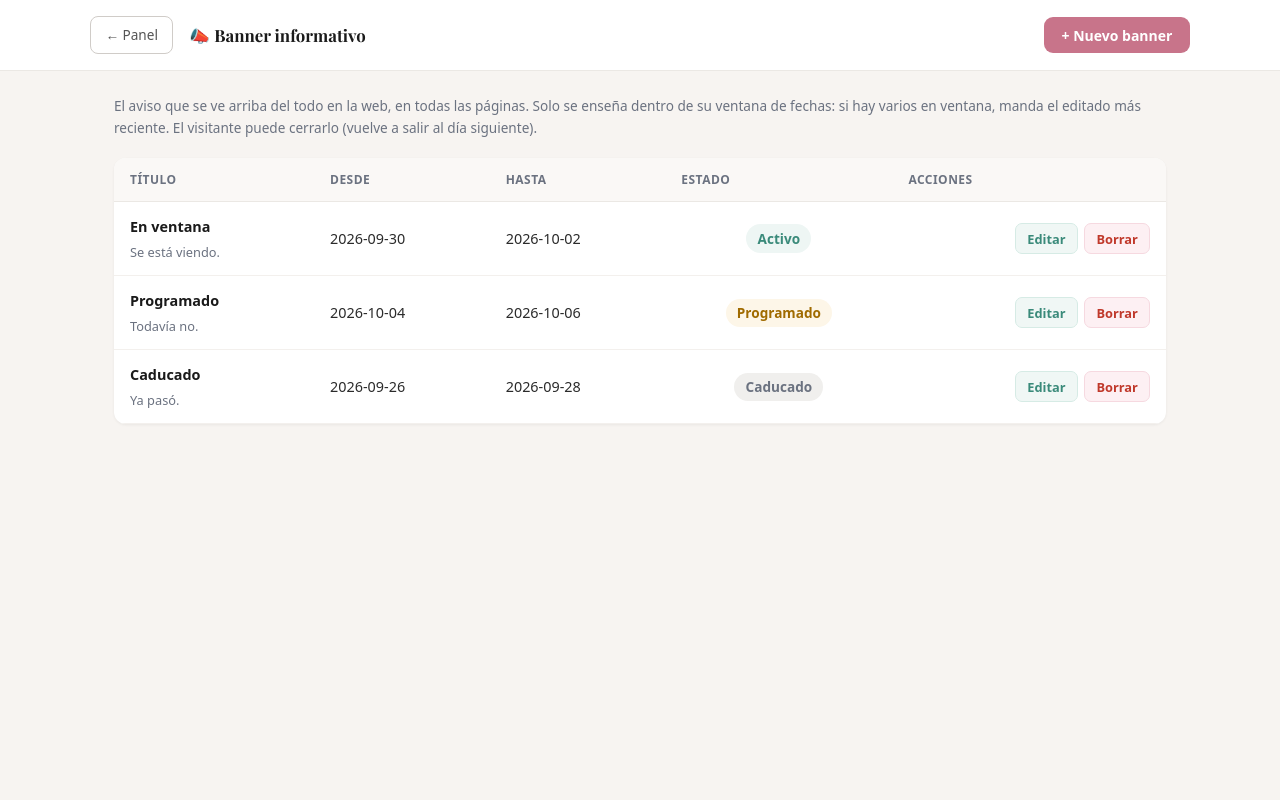
AdminBannersPage › enseña el error del backend en el formulario
Click the button with class "btn-add".
click(1117, 35)  # box [1044,17,1190,53]
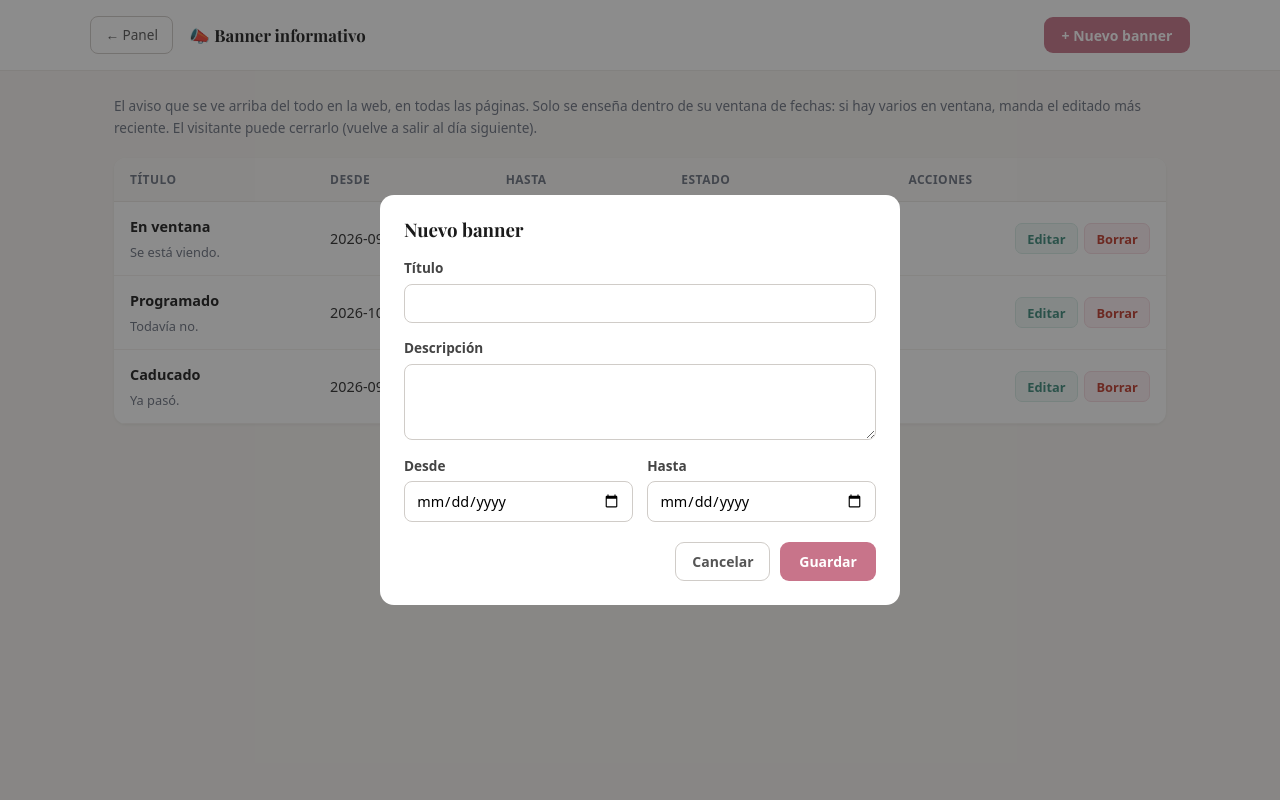
Type "Título" into the field labelled "Título".
click(640, 303); type("Título")  # box [404,284,876,323]
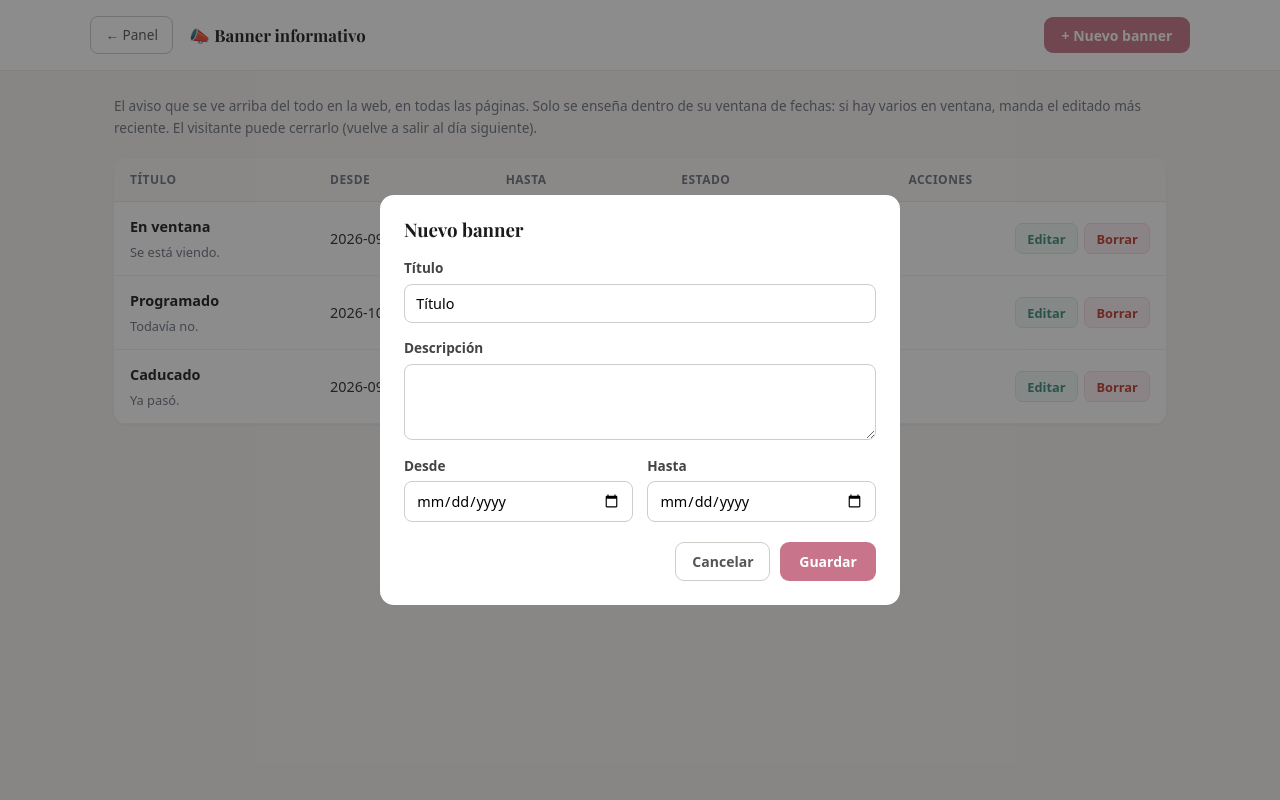
Type "Descripción" into the text box labelled "Descripción".
click(640, 402); type("Descripción")  # box [404,364,876,440]
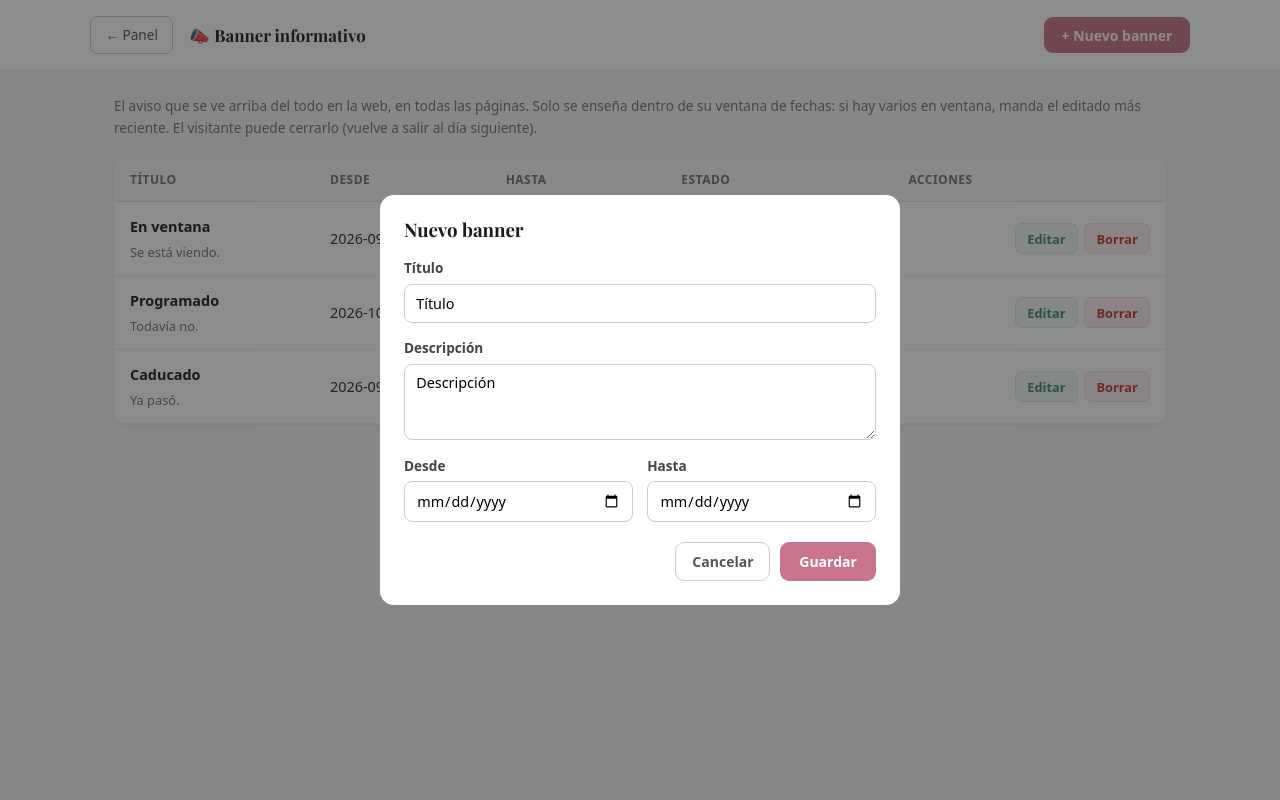
Type "2026-10-31" into the date field labelled "Desde".
click(518, 501); type("2026-10-31")  # box [404,481,633,522]
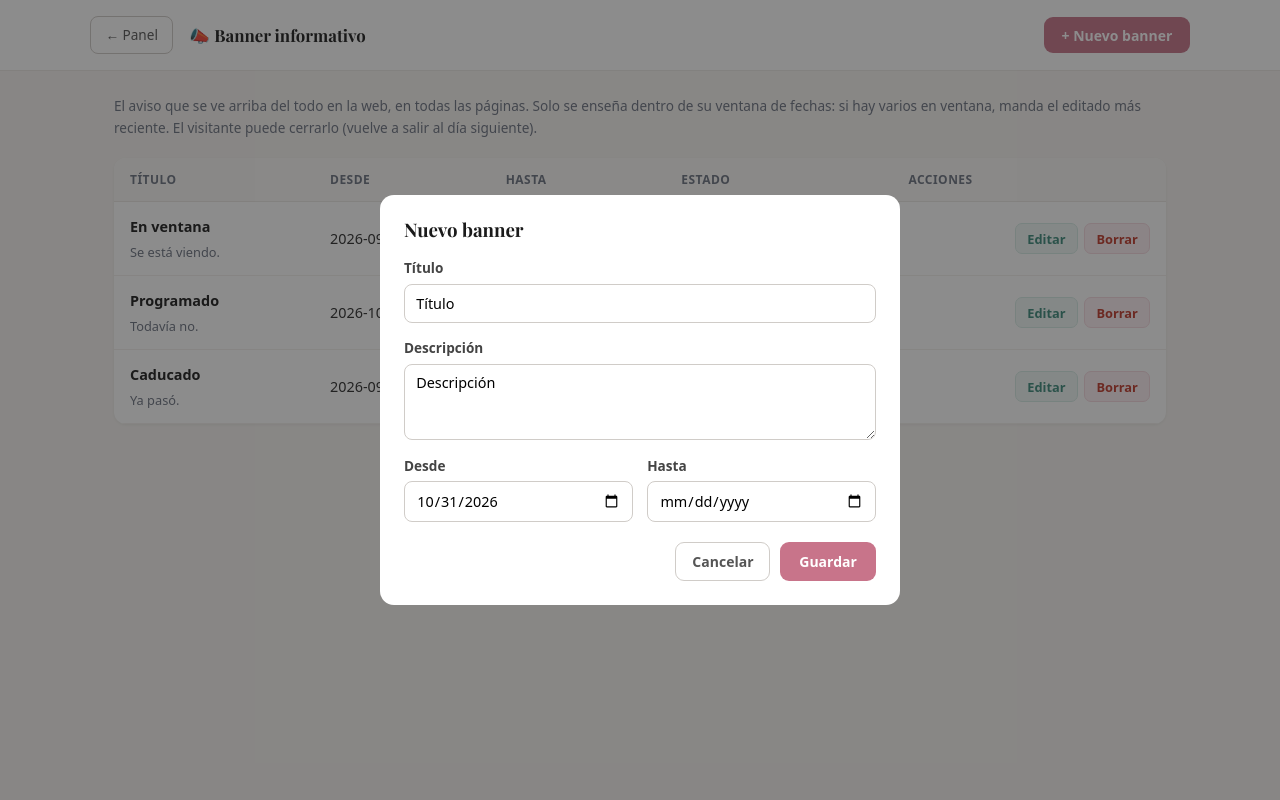
Type "2026-10-01" into the date field labelled "Hasta".
click(762, 501); type("2026-10-01")  # box [647,481,876,522]
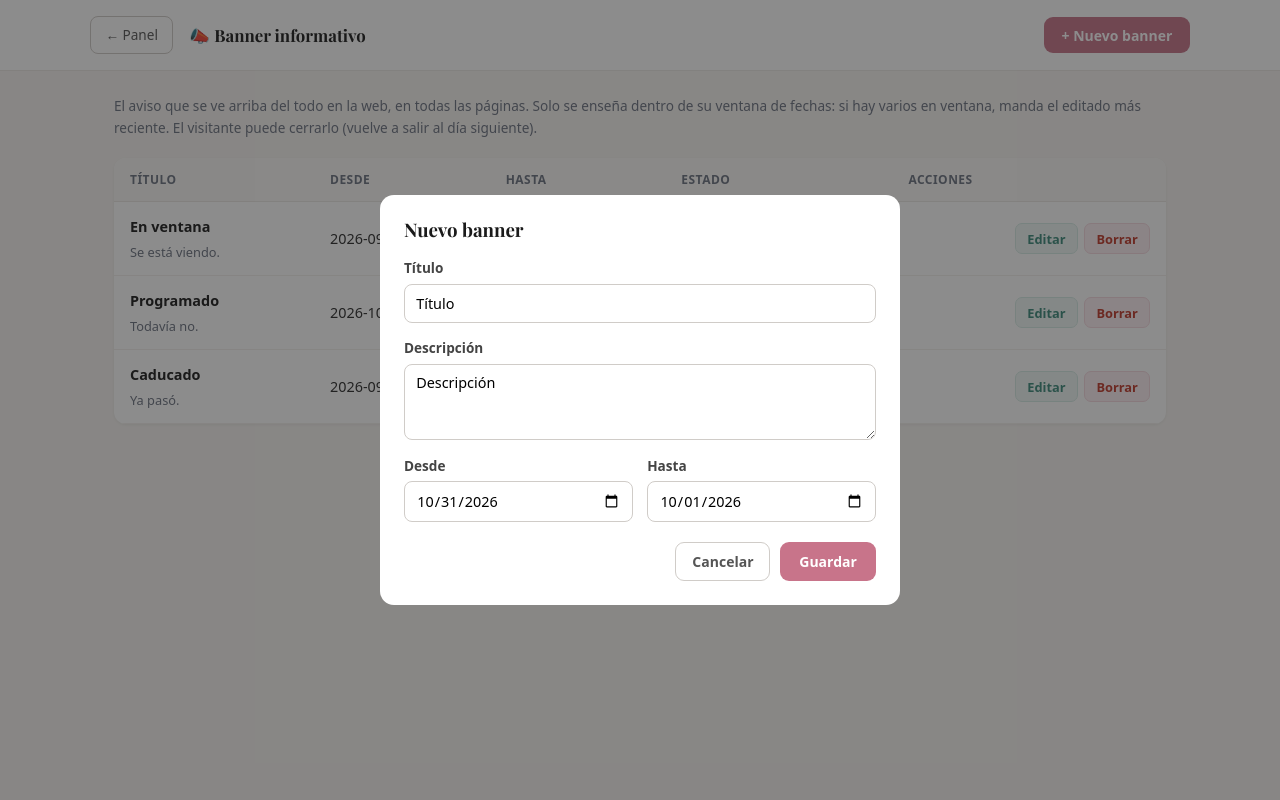
Submit the form, box [404,257,876,581]
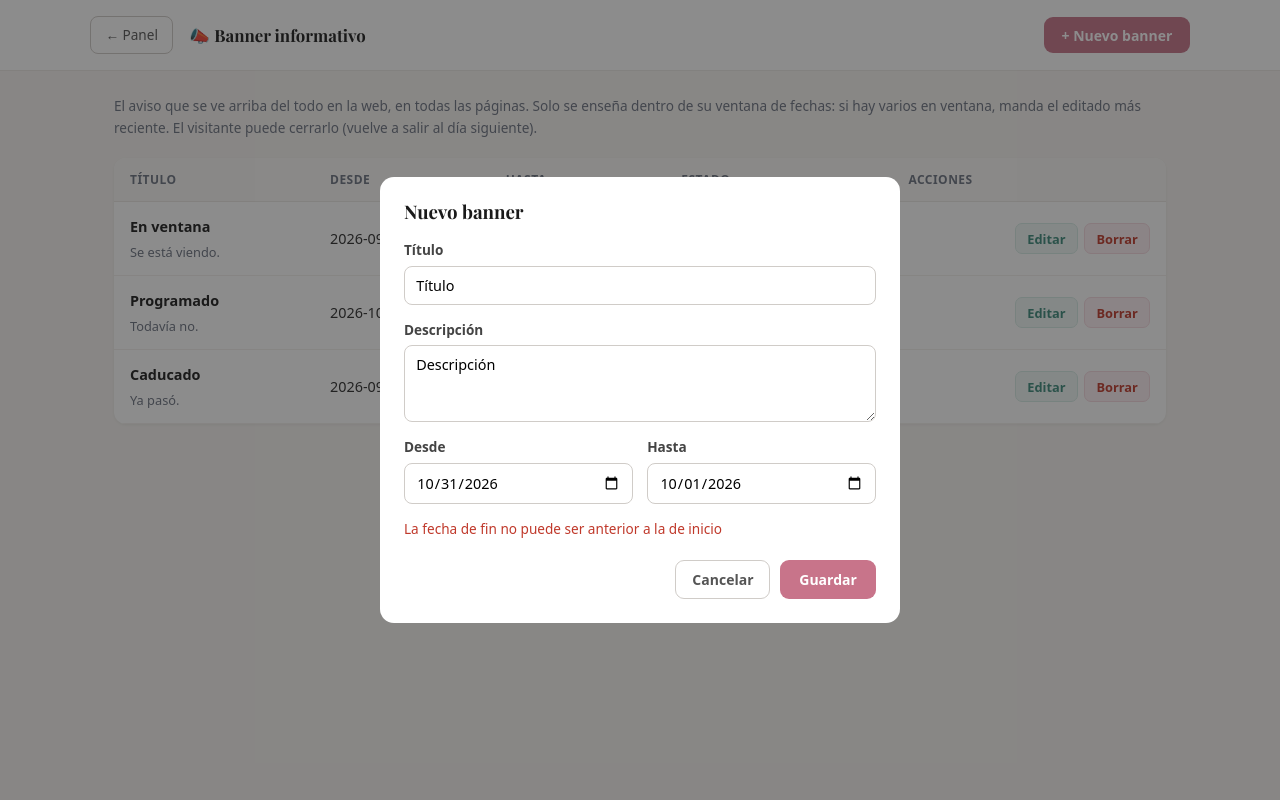
Result: the text with class "modal-error" reads "La fecha de fin no puede ser anterior a la de inicio" at [404,519,722,538]
